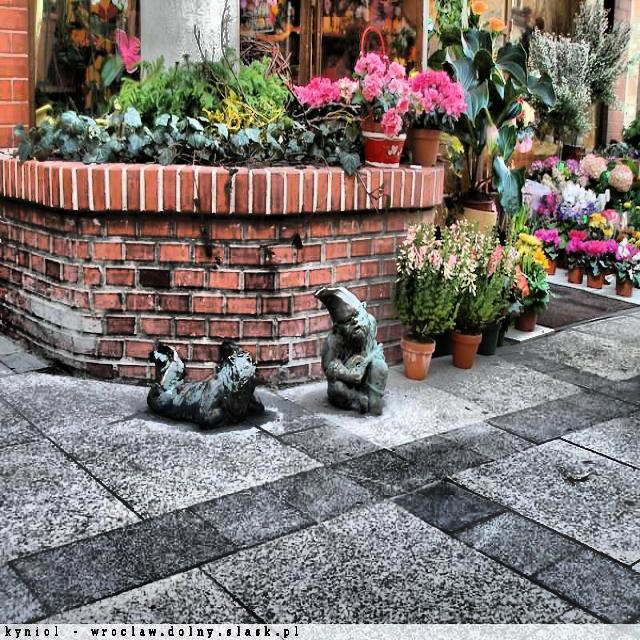Grajek_i_Meloman: (147, 342, 264, 431), (314, 288, 389, 416)
